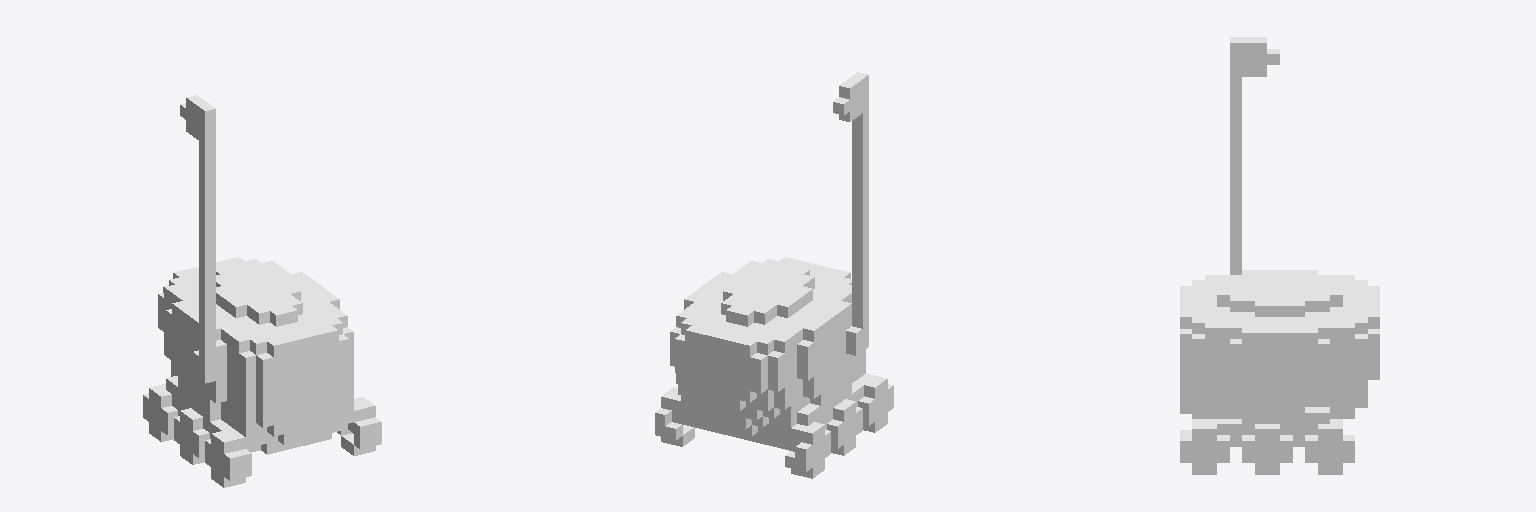
The model's file is CustomerModels20.obj.
3 views of the same model, side by side, from view 1: azimuth 30°, elevation 25°; view 2: azimuth 150°, elevation 25°; view 3: azimuth 270°, elevation 25° (orthographic).
Visible parts, largest first — view 1: object 1; view 2: object 1; view 3: object 1.
Boxes of the visible parts, x1=… form: object 1: x1=143, y1=95, x2=381, y2=487; object 1: x1=655, y1=72, x2=893, y2=478; object 1: x1=1180, y1=37, x2=1379, y2=474.
Size of the model in its own units: 1.4 by 3.2 by 1.6.